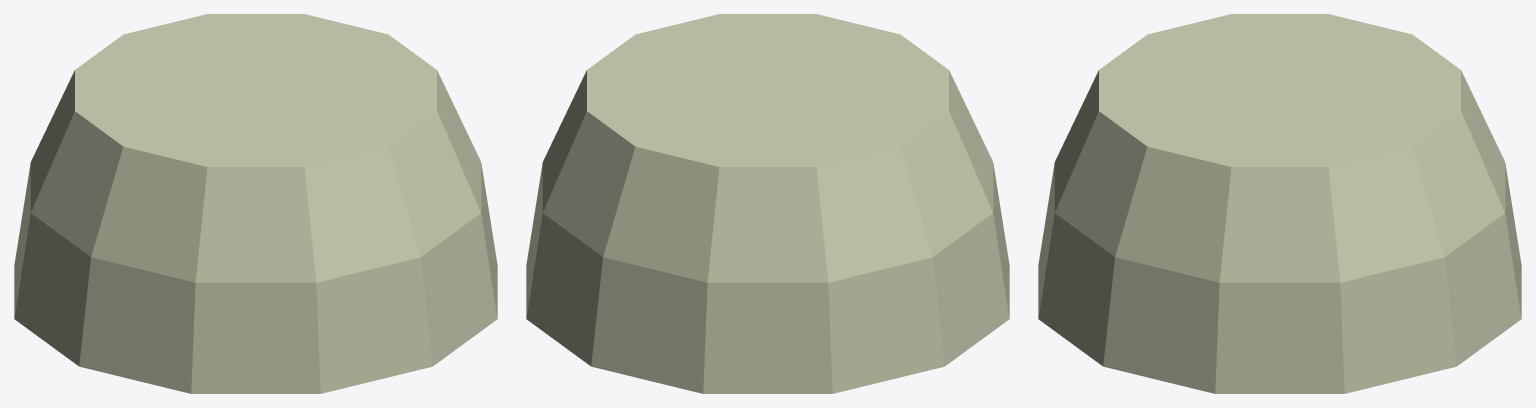
File: hadar_adapter_s1_s0p5_2_collider.obj
The picture shows the model from 3 angles, left to right: view 1: azimuth 30°, elevation 25°; view 2: azimuth 150°, elevation 25°; view 3: azimuth 270°, elevation 25°; orthographic projection.
Parts seen in each view (by area): view 1: collider; view 2: collider; view 3: collider.
Part boxes in pixels (x1,y1,x2,y2): collider: (14, 14, 497, 393); collider: (526, 14, 1009, 393); collider: (1038, 14, 1521, 393).
Size of the model in its own units: 1.25 by 0.575 by 1.25.
